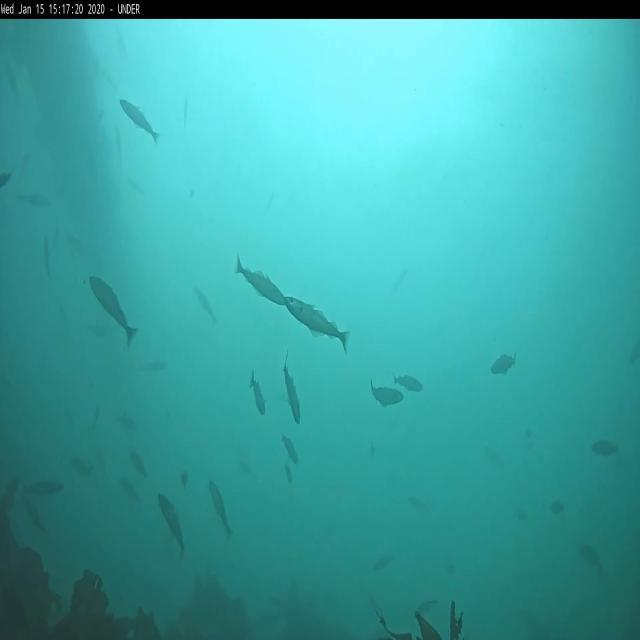fish: (286, 295, 349, 352), (90, 276, 139, 346), (236, 256, 285, 304), (121, 100, 161, 144), (160, 494, 186, 556), (208, 482, 233, 539), (283, 352, 301, 424), (194, 288, 219, 327), (371, 380, 404, 408), (250, 369, 268, 416), (22, 497, 46, 532), (580, 545, 604, 573), (26, 482, 64, 497), (119, 478, 139, 506), (491, 352, 516, 374), (282, 435, 298, 466), (18, 192, 52, 206), (592, 438, 620, 454), (132, 454, 148, 480), (376, 550, 394, 572), (418, 598, 438, 614), (43, 239, 51, 277), (628, 340, 639, 367), (141, 364, 168, 374), (552, 499, 566, 518), (184, 96, 190, 132)
